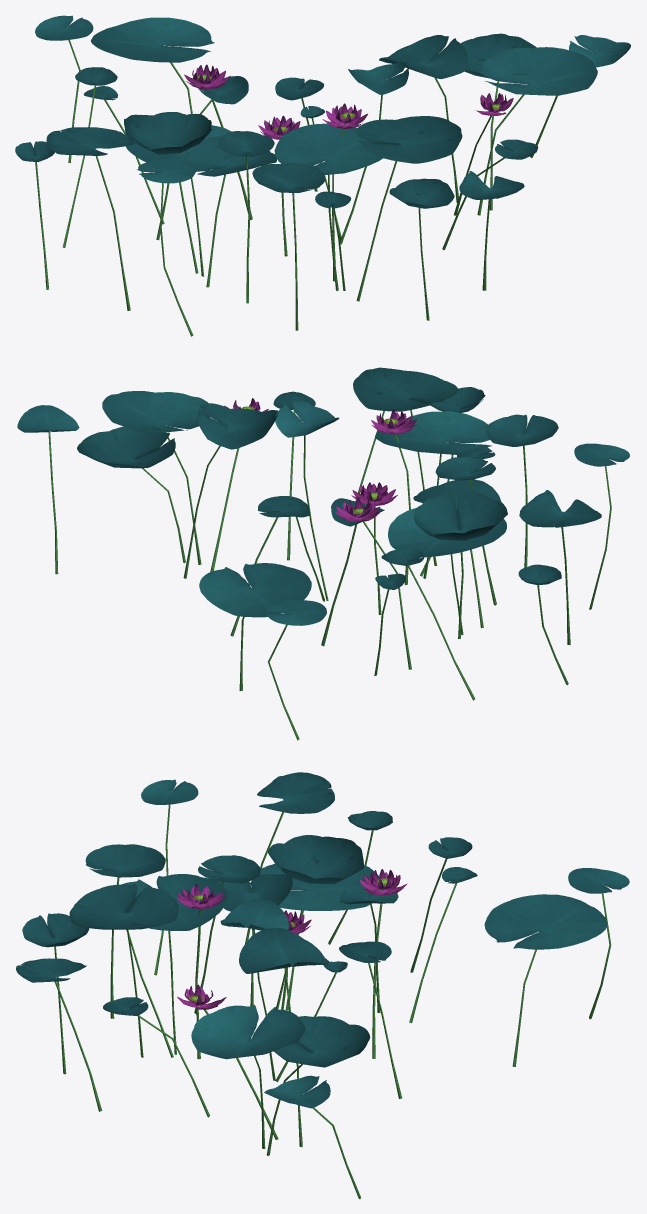
3 renders of one model, top to bottom at view 1: azimuth 30°, elevation 25°; view 2: azimuth 150°, elevation 25°; view 3: azimuth 270°, elevation 25°, orthographic. The views are drawn at different scales.
Visible parts, largest first — view 1: SM_GF_WaterLily_02_LOD0; view 2: SM_GF_WaterLily_02_LOD0; view 3: SM_GF_WaterLily_02_LOD0.
Part boxes in pixels (x1,y1,x2,y2): SM_GF_WaterLily_02_LOD0: (15, 15, 630, 336); SM_GF_WaterLily_02_LOD0: (17, 367, 629, 740); SM_GF_WaterLily_02_LOD0: (16, 772, 629, 1198).
Bounding box in the file's own units: 3.43 × 1.02 × 3.04.
1 material, 1 textured.
